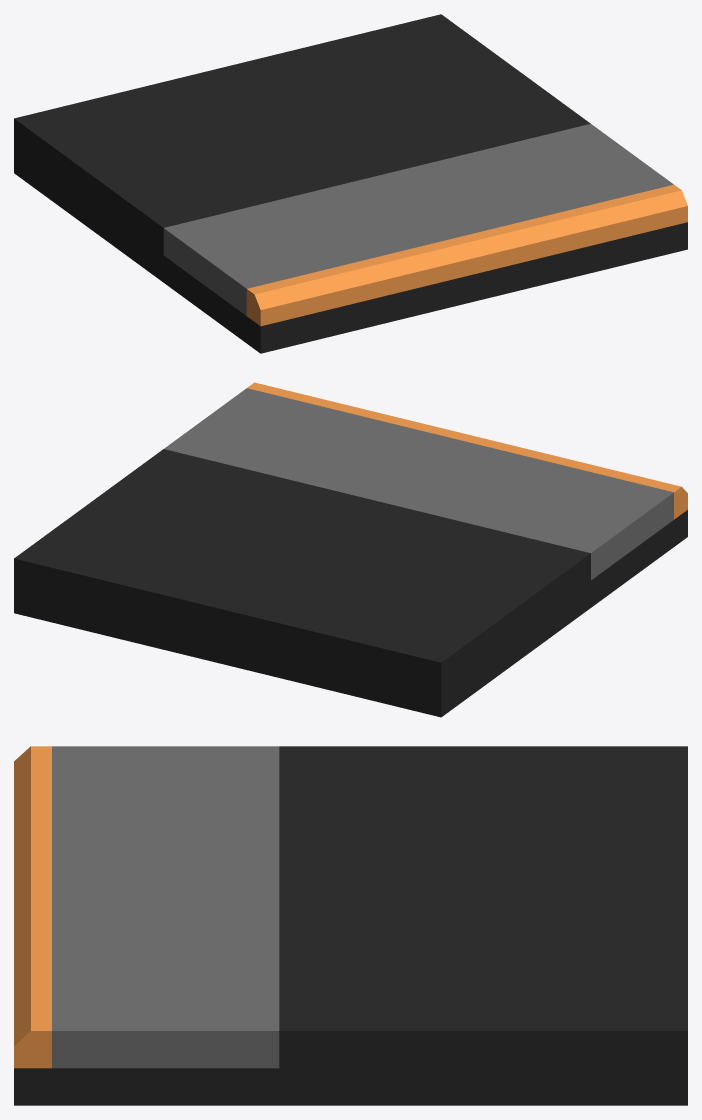
File: SideWalk_04.FBX
3 renders of one model, top to bottom at view 1: azimuth 30°, elevation 25°; view 2: azimuth 150°, elevation 25°; view 3: azimuth 270°, elevation 25°, orthographic. The views are drawn at different scales.
Visible parts, largest first — view 1: SideWalk_04; view 2: SideWalk_04; view 3: SideWalk_04.
Part boxes in pixels (x1=…): SideWalk_04: x1=14, y1=14, x2=687, y2=353; SideWalk_04: x1=14, y1=382, x2=687, y2=717; SideWalk_04: x1=14, y1=746, x2=687, y2=1105.
Bounding box in the file's own units: 10 × 1.22 × 10.
